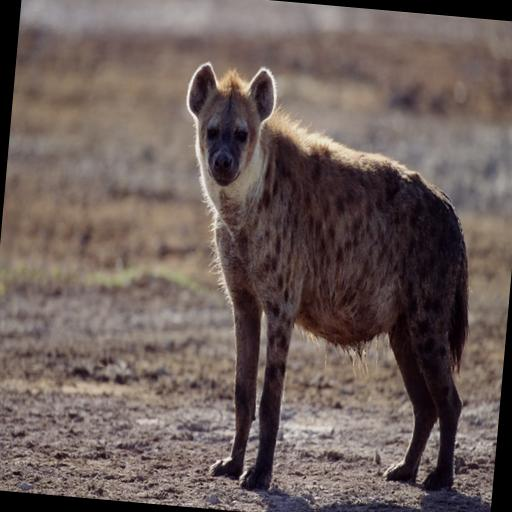hyenas: (125, 44, 512, 498)
